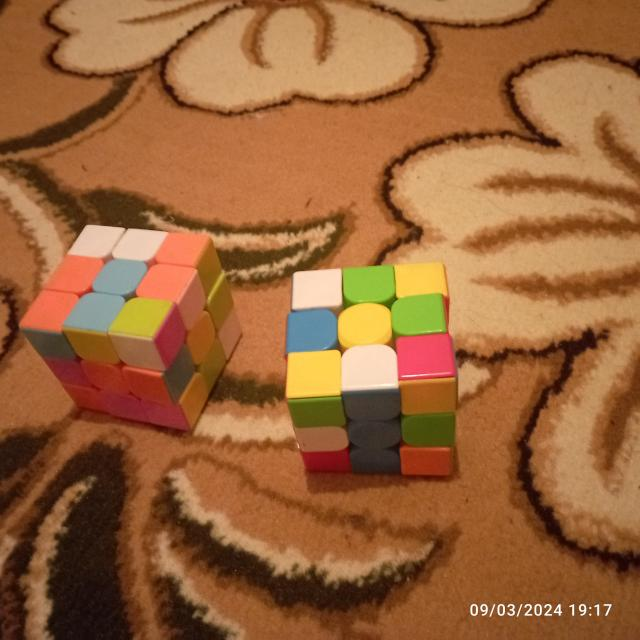Rub: (15, 222, 246, 439), (277, 257, 462, 484)
